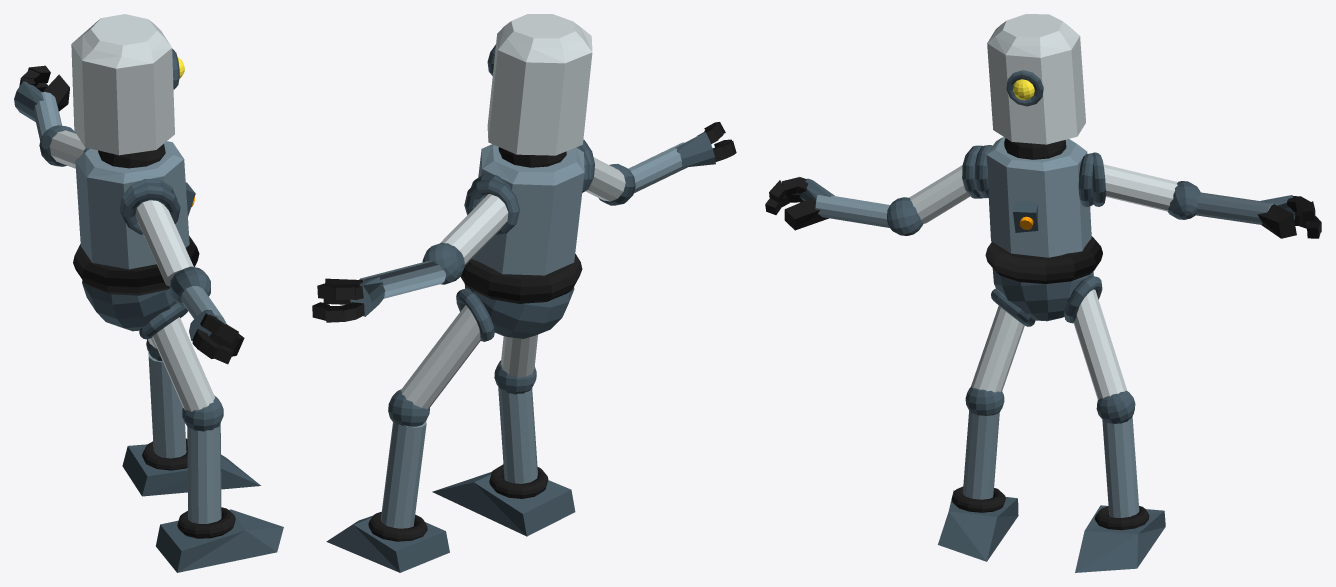
The model's file is RobotGuard.glb.
3 views of the same model, side by side, from view 1: azimuth 30°, elevation 25°; view 2: azimuth 150°, elevation 25°; view 3: azimuth 270°, elevation 25° (orthographic). The views are drawn at different scales.
Visible parts, largest first — view 1: group424423836, group254215753, group1162203294, group1557778044, group2079650734, group1531096767, group793120268, group313892816, group1269694942, group150588120, group162621989, group11984473 (+12 smaller); view 2: group424423836, group254215753, group1162203294, group1531096767, group1659004370, group793120268, group313892816, group1557778044, group150588120, group348524121, group835979637, group467084461 (+13 smaller); view 3: group424423836, group254215753, group313892816, group793120268, group1162203294, group1659004370, group1531096767, group1557778044, group2079650734, group150588120, group348524121, group1269694942 (+14 smaller).
Part boxes in pixels (x1,y1,x2,y2): group424423836: [71, 14, 174, 155]; group254215753: [75, 141, 189, 269]; group1162203294: [156, 509, 283, 572]; group1557778044: [187, 423, 221, 523]; group2079650734: [152, 317, 214, 411]; group1531096767: [148, 352, 186, 458]; group793120268: [73, 235, 199, 295]; group313892816: [122, 444, 260, 496]; group1269694942: [135, 200, 193, 286]; group150588120: [82, 280, 176, 331]; group162621989: [122, 185, 180, 234]; group11984473: [177, 507, 235, 538]; group424423836: [487, 14, 592, 155]; group254215753: [472, 144, 584, 275]; group1162203294: [432, 472, 575, 536]; group1531096767: [381, 421, 426, 528]; group1659004370: [400, 305, 480, 409]; group793120268: [460, 254, 582, 303]; group313892816: [326, 515, 449, 572]; group1557778044: [498, 387, 537, 483]; group150588120: [464, 284, 574, 338]; group348524121: [440, 194, 508, 265]; group835979637: [359, 261, 445, 298]; group467084461: [628, 142, 687, 193]; group424423836: [987, 14, 1085, 144]; group254215753: [986, 137, 1091, 257]; group313892816: [1075, 505, 1165, 572]; group793120268: [985, 236, 1102, 283]; group1162203294: [938, 490, 1018, 561]; group1659004370: [1073, 289, 1127, 399]; group1531096767: [1102, 416, 1139, 517]; group1557778044: [963, 410, 999, 499]; group2079650734: [971, 306, 1024, 392]; group150588120: [992, 268, 1093, 321]; group348524121: [1092, 164, 1177, 211]; group1269694942: [909, 165, 970, 223].
Bounding box in the file's own units: 0.2973 × 0.6769 × 0.7098.
